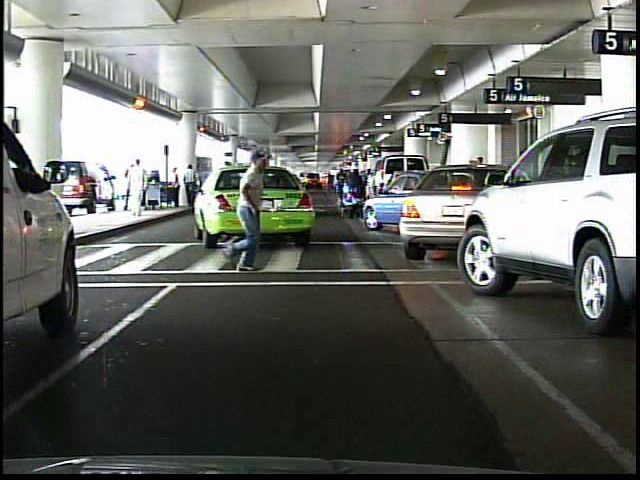person: (225, 147, 282, 274)
